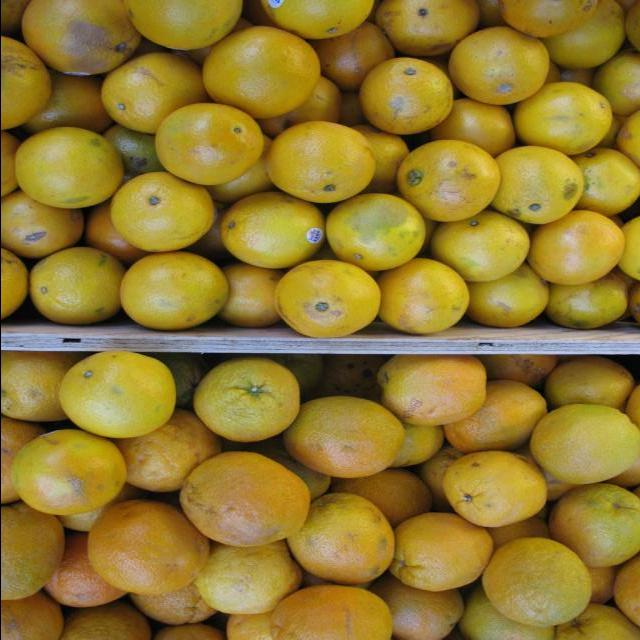Non_Gorille: (0, 18, 635, 630)
